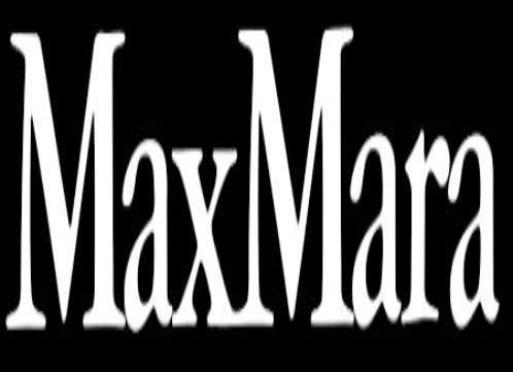MAX-MARA: (6, 27, 505, 328)
